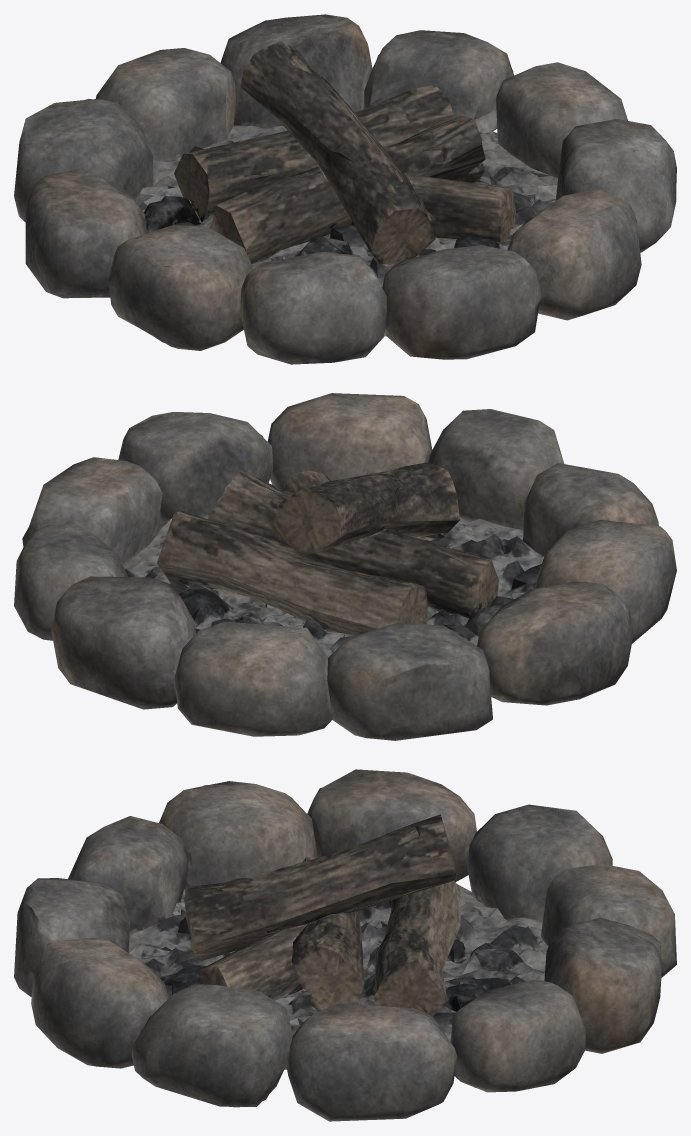
3 renders of one model, top to bottom at view 1: azimuth 30°, elevation 25°; view 2: azimuth 150°, elevation 25°; view 3: azimuth 270°, elevation 25°, orthographic.
Parts seen in each view (by area): view 1: stone-firepit; view 2: stone-firepit; view 3: stone-firepit.
Part boxes in pixels (<box>): stone-firepit: <box>14,14,676,364</box>; stone-firepit: <box>14,393,676,740</box>; stone-firepit: <box>14,769,676,1121</box>.
Size of the model in its own units: 1.62 by 0.4404 by 1.61.
1 material, 1 textured.
